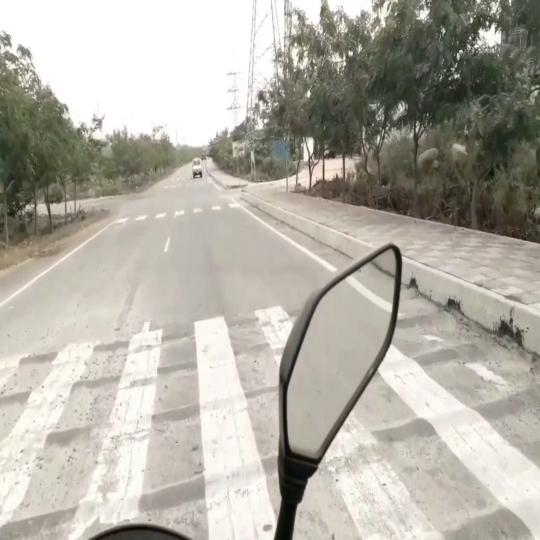Speed Bump: (0, 390, 276, 454), (0, 309, 280, 363), (0, 337, 279, 385), (364, 379, 539, 449), (140, 445, 276, 518), (400, 494, 539, 539), (0, 490, 90, 540), (395, 339, 491, 375), (402, 304, 452, 332)
